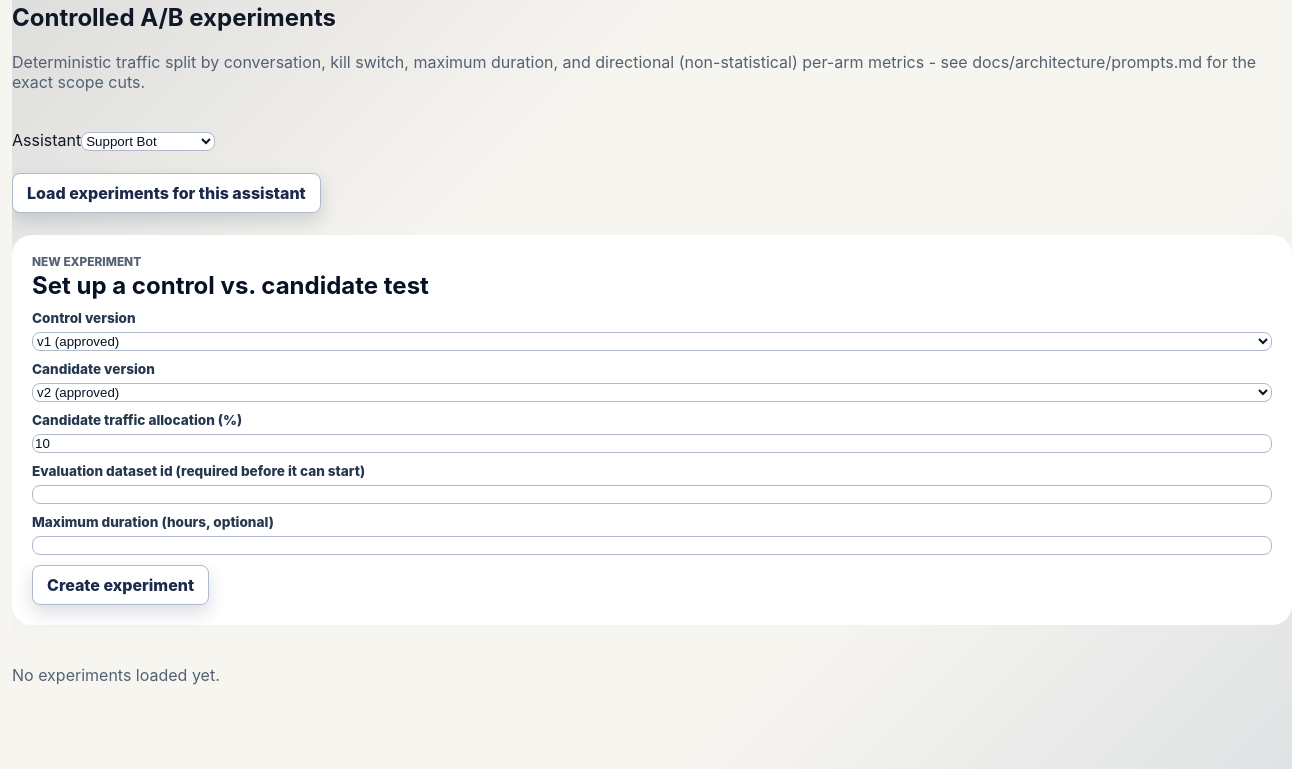
Scenario: PromptExperimentsView › creates a new experiment via POST
The image size is (1292, 769).
Select "Support Bot" in the dropdown labelled "Assistant" at (148, 141), box [81,132,215,151]
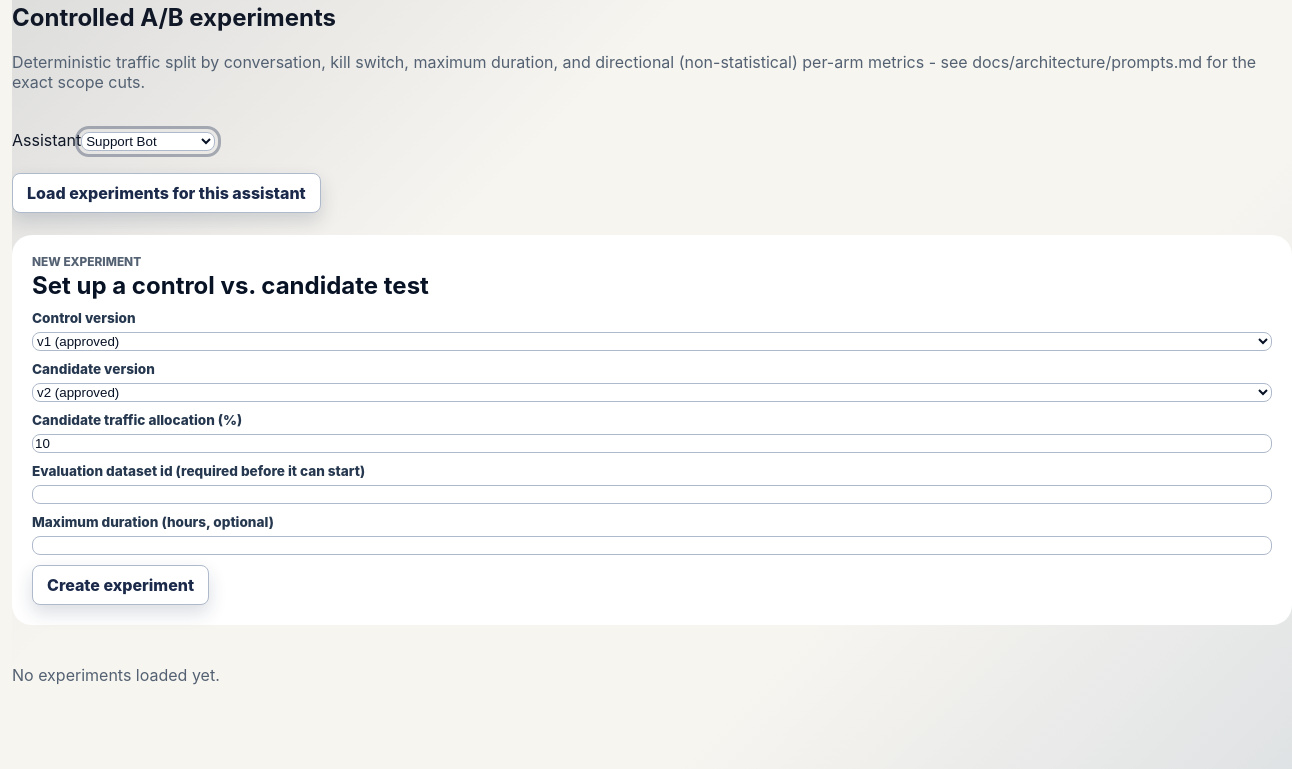
Click the button "Create experiment" at (120, 585), box [32,565,209,605]
(page scrolled)
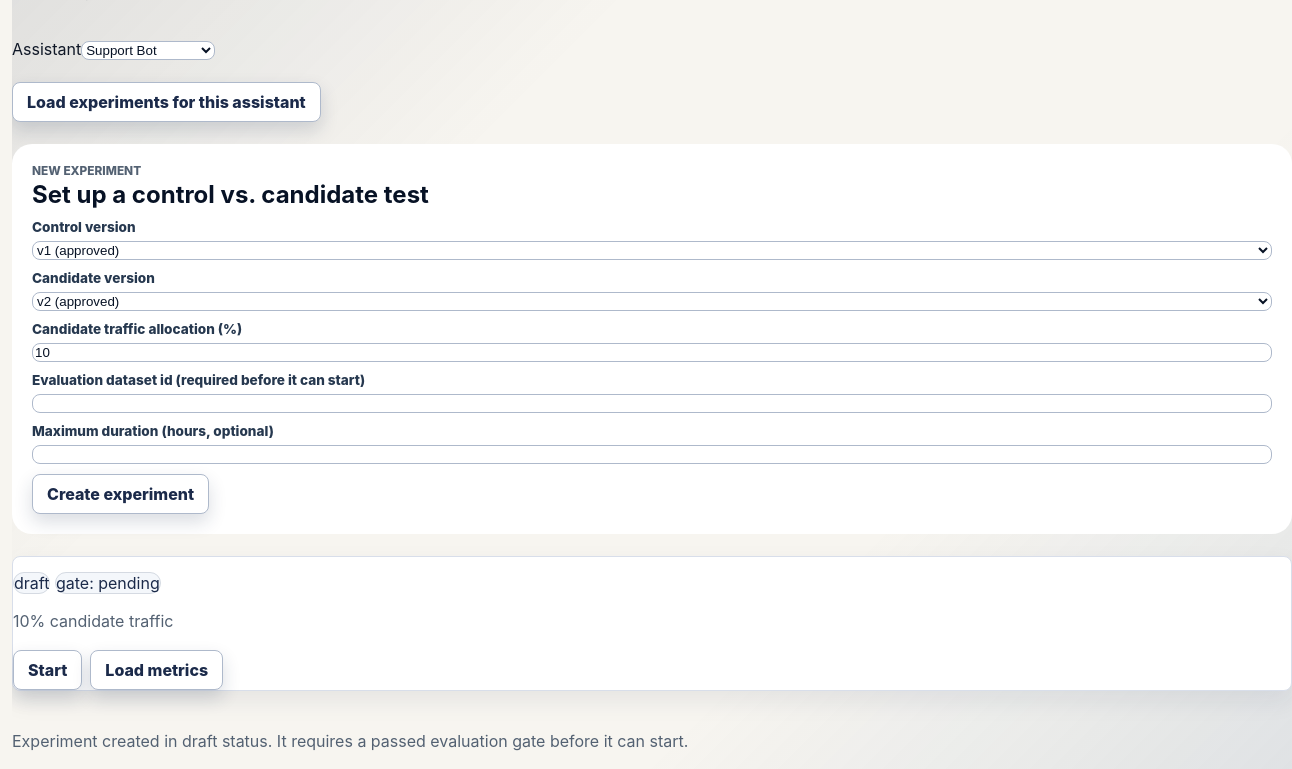
Check: the text "requires a passed evaluation gate" is shown, box [12,731,688,751]
